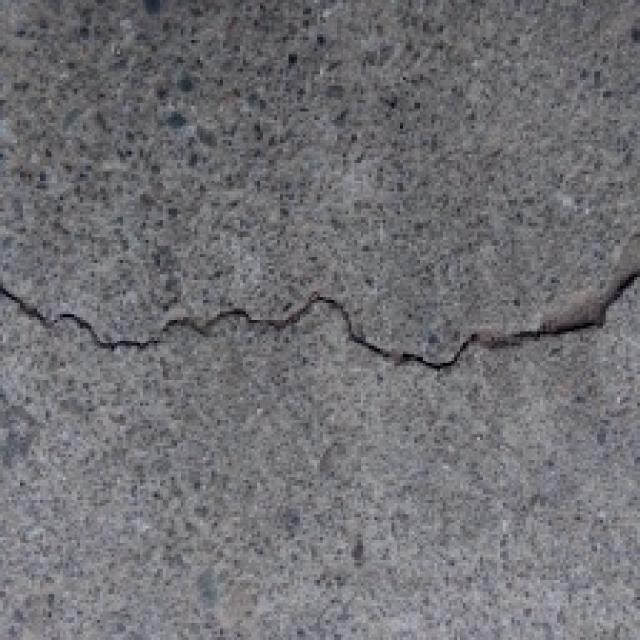crack: (0, 248, 640, 392)
